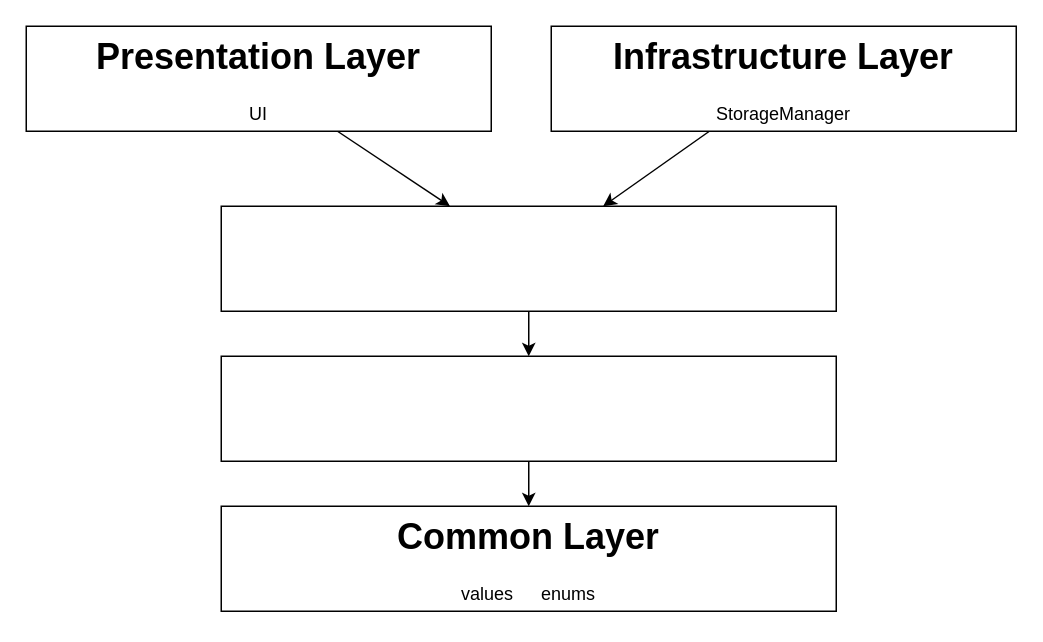
Image size: 1043x642. Some labels were removed from this diagram. Each missing label, with the box of its shape:
Domain Layer Course Plan Task Profile: (220, 355, 836, 461)
Logic Layer Scheduler CourseManager: (220, 205, 836, 311)
